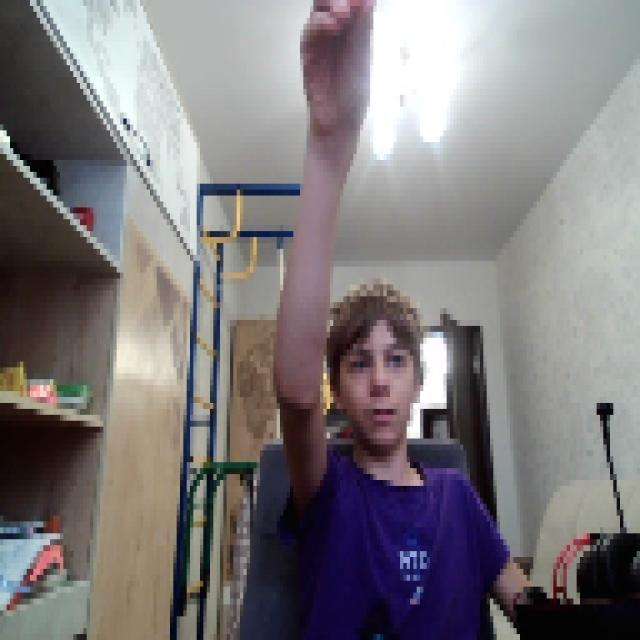left_click: (296, 0, 373, 124)
